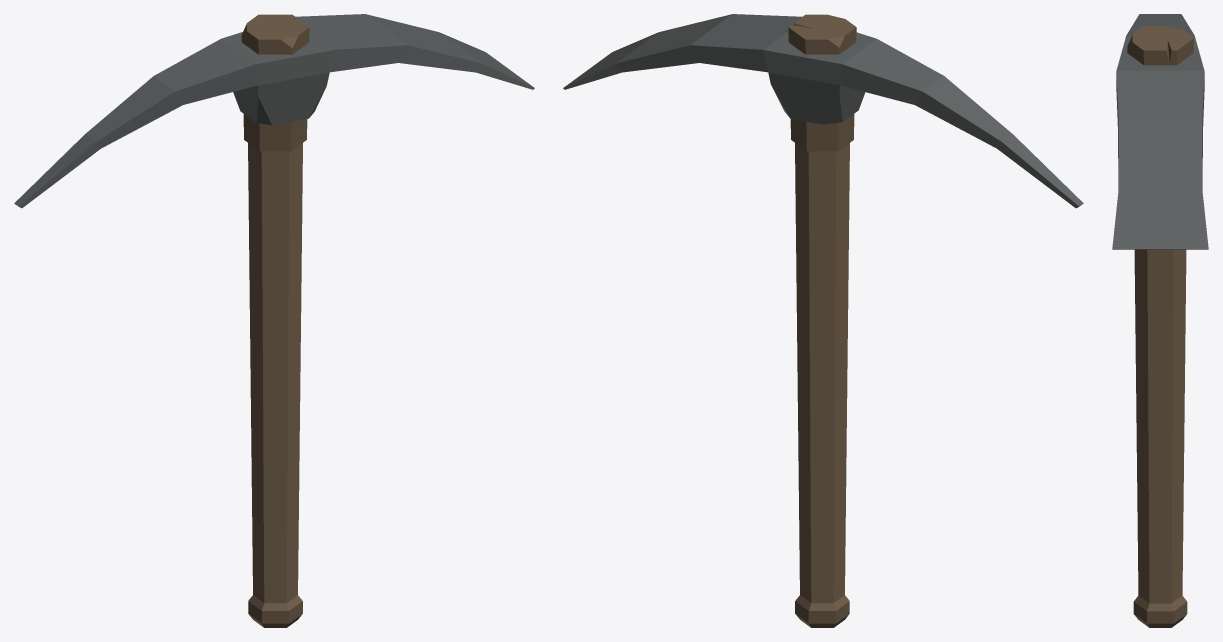
Rendered from SM_Props_Farm_Tool_Axe_02.fbx.
3 renders of one model, left to right at view 1: azimuth 30°, elevation 25°; view 2: azimuth 150°, elevation 25°; view 3: azimuth 270°, elevation 25°, orthographic.
Parts seen in each view (by area): view 1: SM_Props_Farm_Tool_Axe_02; view 2: SM_Props_Farm_Tool_Axe_02; view 3: SM_Props_Farm_Tool_Axe_02.
Part boxes in pixels (left/top/right/bottom): SM_Props_Farm_Tool_Axe_02: left=14, top=14, right=534, bottom=627; SM_Props_Farm_Tool_Axe_02: left=563, top=14, right=1083, bottom=627; SM_Props_Farm_Tool_Axe_02: left=1112, top=14, right=1208, bottom=627.
Size of the model in its own units: 87 by 99.72 by 14.99.
